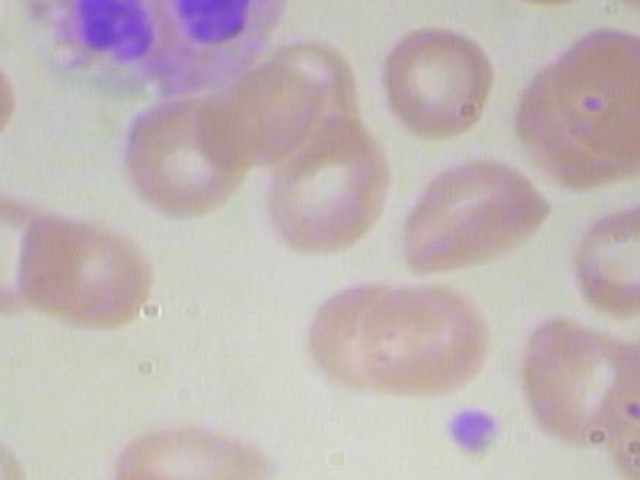Platelets: (443, 400, 514, 459)
RBC: (392, 147, 559, 282), (9, 206, 162, 344), (254, 114, 403, 253), (115, 85, 264, 223), (360, 265, 496, 404), (513, 307, 640, 447), (376, 23, 501, 146), (544, 20, 640, 171), (103, 412, 282, 480), (569, 193, 640, 320), (0, 43, 14, 166), (477, 0, 640, 9)
WBC: (0, 0, 298, 101)
